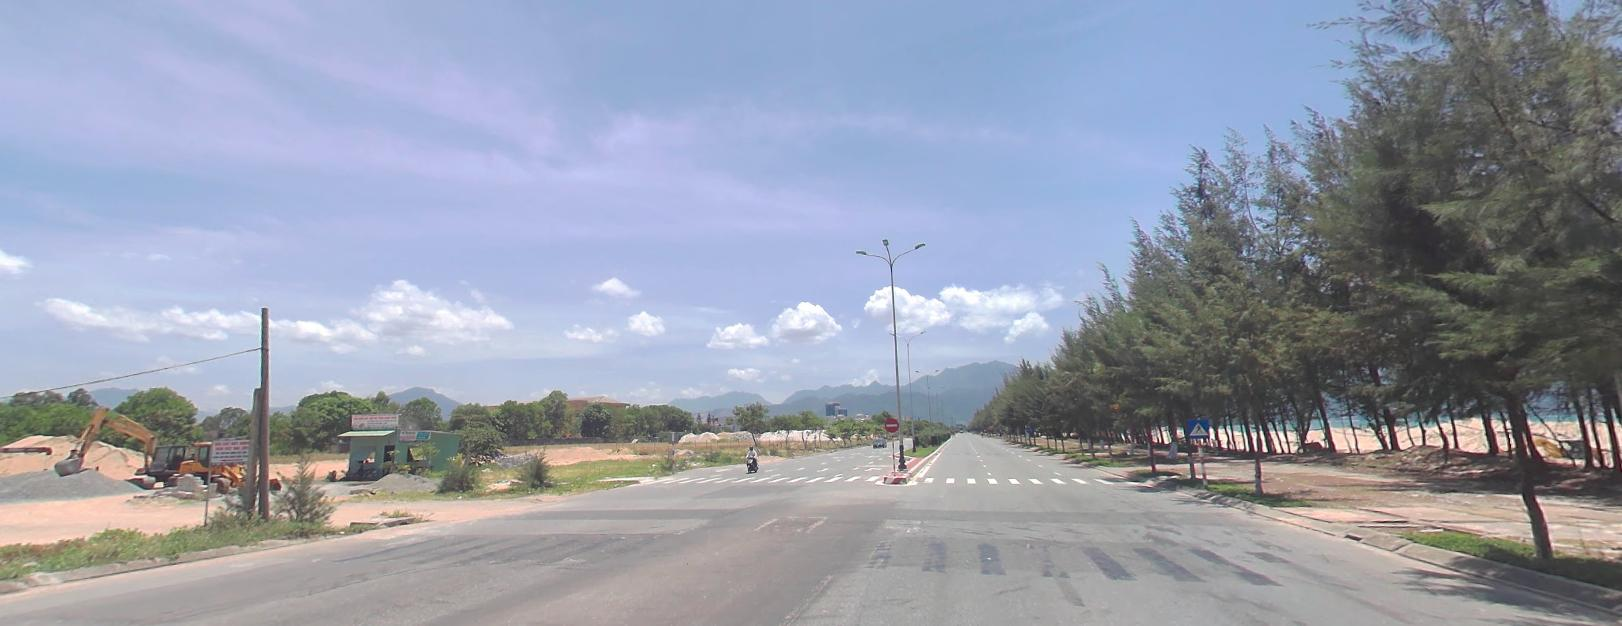Cam nguoc chieu: (883, 417, 899, 431)
